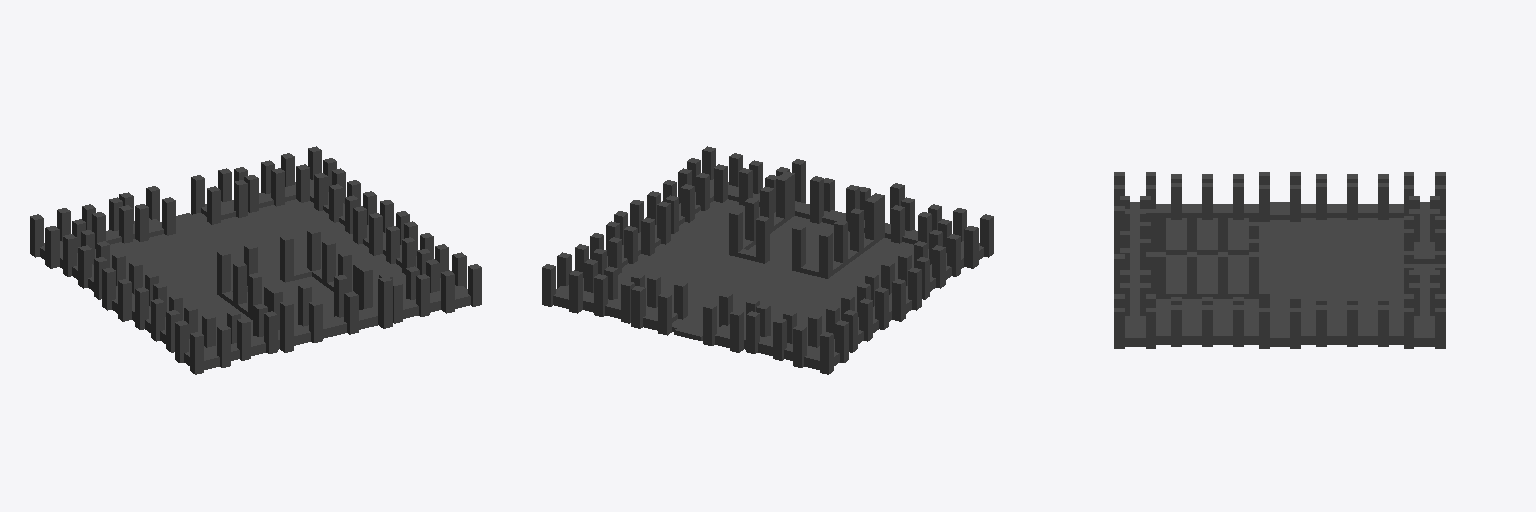
3 views of the same model, side by side, from view 1: azimuth 30°, elevation 25°; view 2: azimuth 150°, elevation 25°; view 3: azimuth 270°, elevation 25° (orthographic).
Parts seen in each view (by area): view 1: CastleFirstStage; view 2: CastleFirstStage; view 3: CastleFirstStage.
Boxes of the visible parts, x1=… form: CastleFirstStage: x1=30, y1=146, x2=481, y2=374; CastleFirstStage: x1=542, y1=146, x2=993, y2=374; CastleFirstStage: x1=1114, y1=172, x2=1445, y2=348.
Bounding box in the file's own units: 64 × 10 × 64.
Materials: 1 (1 with a texture image).